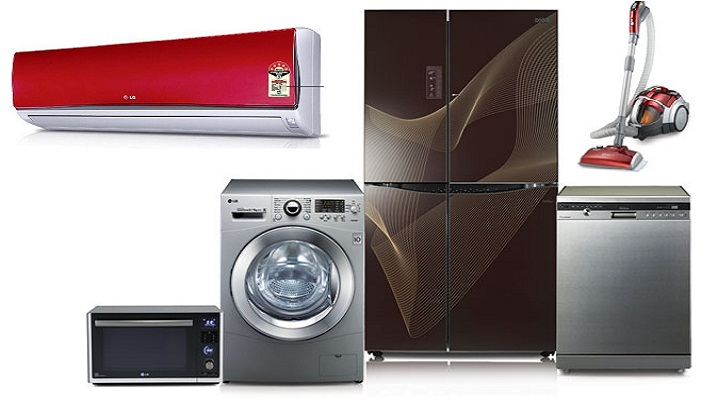AC: (13, 56, 318, 138)
Refrigerator: (366, 8, 551, 349)
